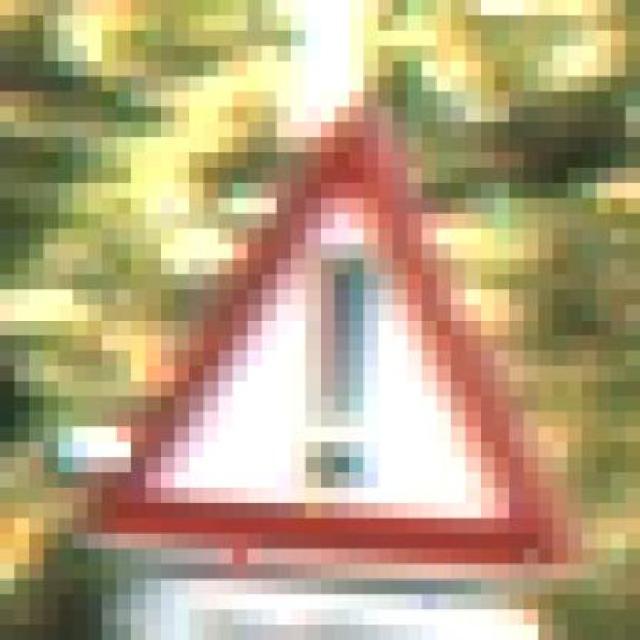Attention Please-: (101, 91, 582, 594)
